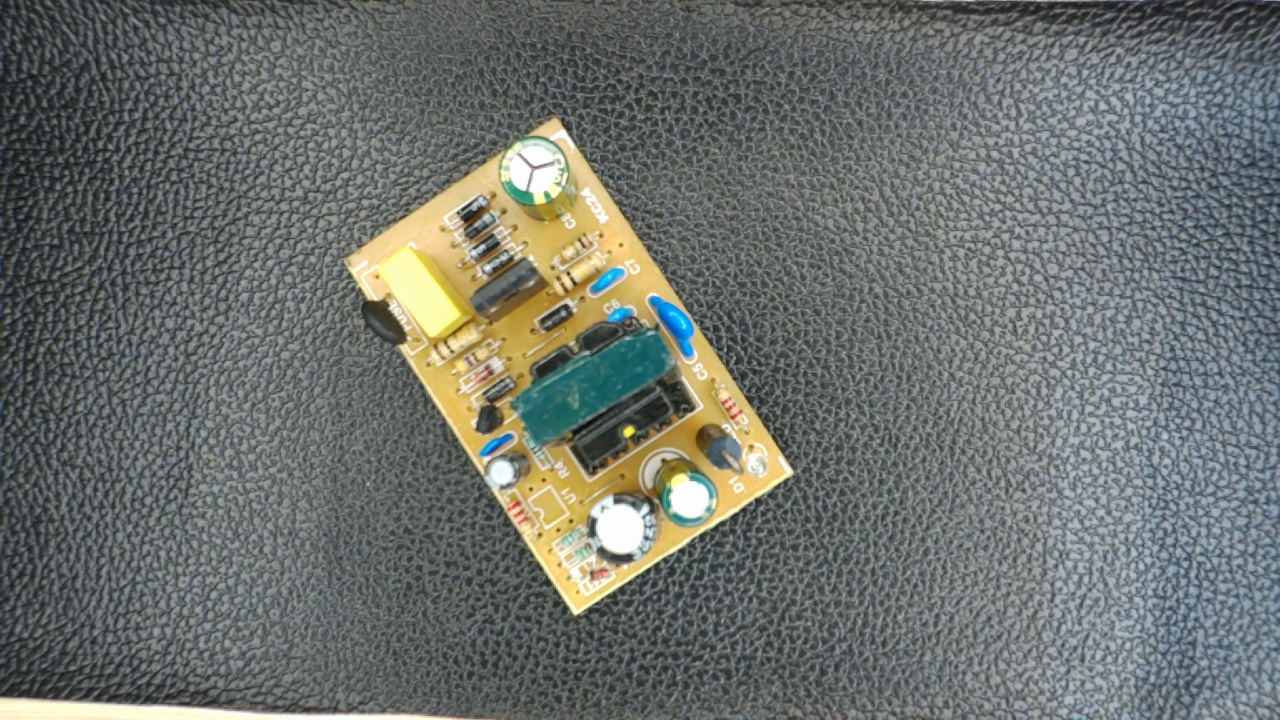fuse: (359, 281, 419, 351)
hv_capacitor: (495, 134, 584, 224)
mov: (645, 288, 708, 369)
